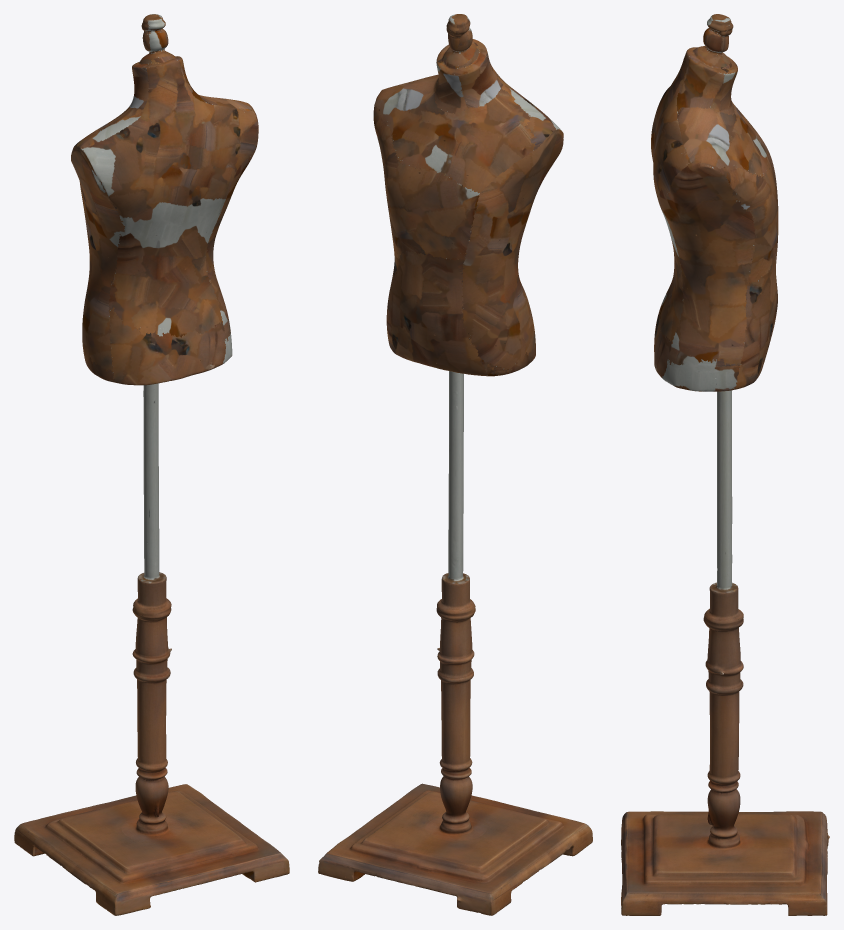
The model's file is Dressform.fbx.
3 renders of one model, left to right at view 1: azimuth 30°, elevation 25°; view 2: azimuth 150°, elevation 25°; view 3: azimuth 270°, elevation 25°, orthographic.
Visible parts, largest first — view 1: Mesh_0.001, Mesh_0; view 2: Mesh_0.001, Mesh_0; view 3: Mesh_0.001, Mesh_0.
Part boxes in pixels (bbox=[...]): Mesh_0.001: bbox=[71, 14, 258, 385]; Mesh_0: bbox=[14, 383, 289, 915]; Mesh_0.001: bbox=[373, 14, 563, 376]; Mesh_0: bbox=[318, 371, 592, 915]; Mesh_0.001: bbox=[651, 14, 778, 391]; Mesh_0: bbox=[621, 390, 829, 915].
Bounding box in the file's own units: 349 × 1594 × 352.
2 materials, 2 textured.
